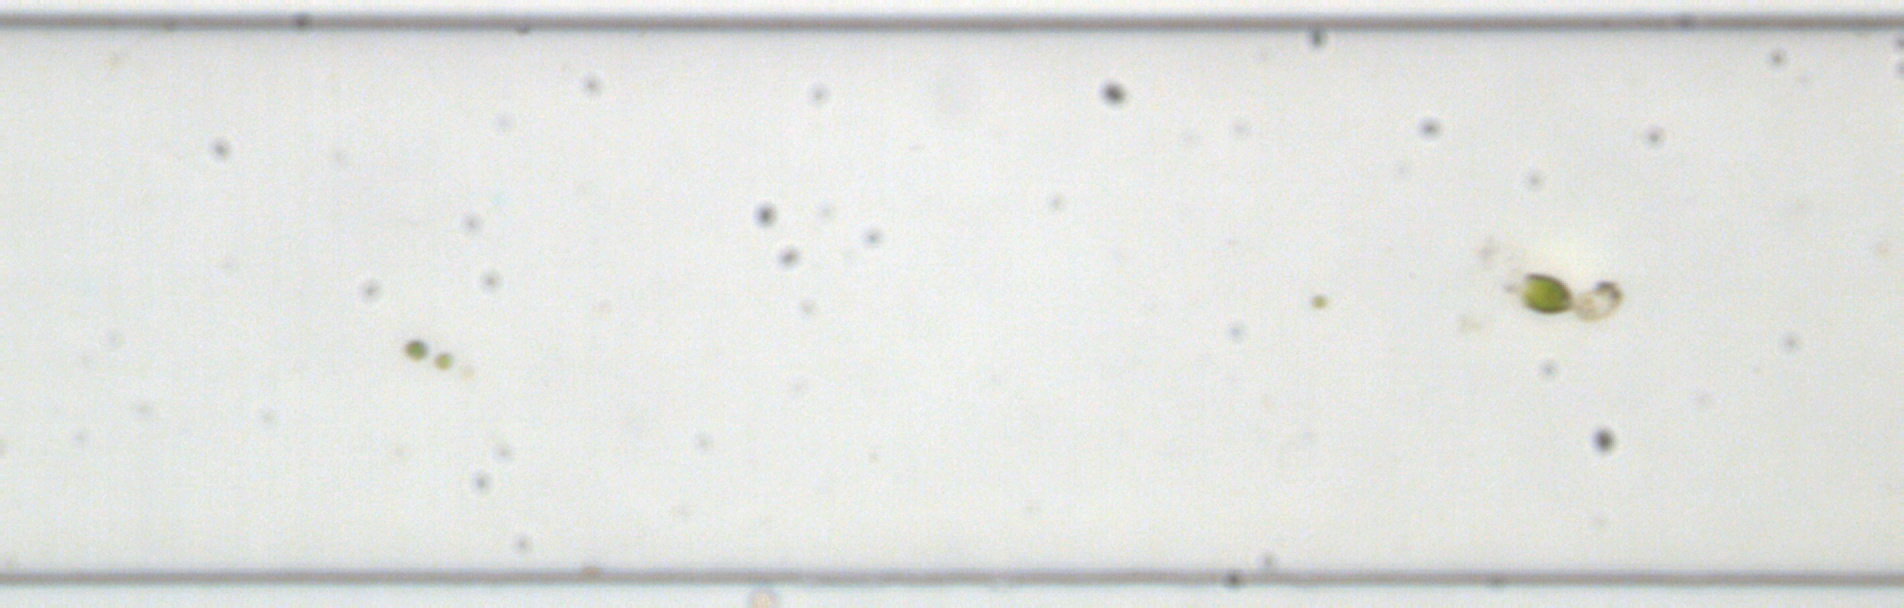Chlorella: (402, 336, 427, 360), (433, 350, 454, 369), (1309, 290, 1327, 309)
Platymonas: (1515, 268, 1572, 316)
